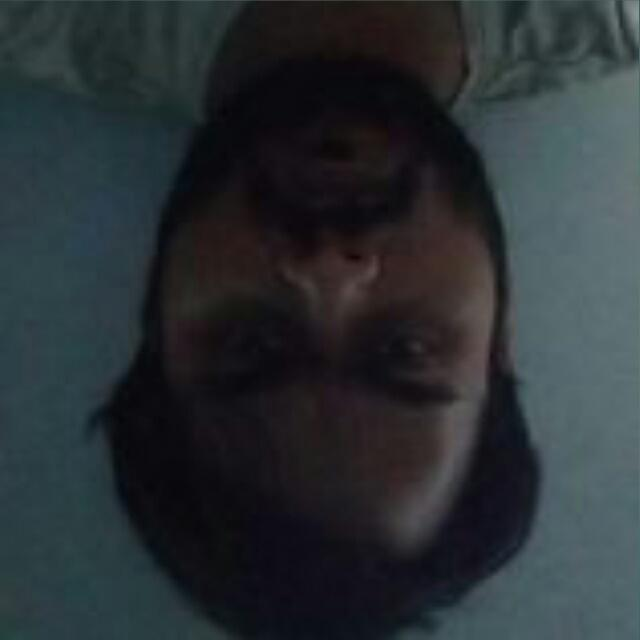Angry: (86, 53, 603, 606)
